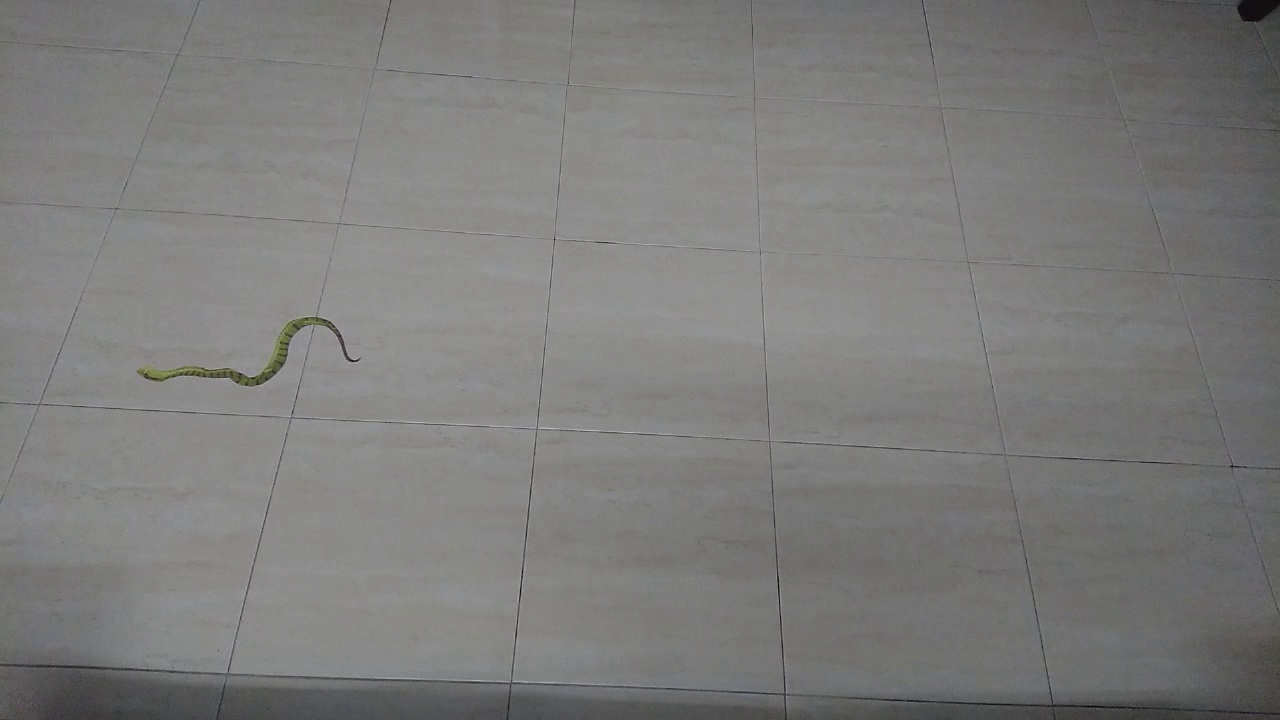snake: (124, 300, 374, 404)
